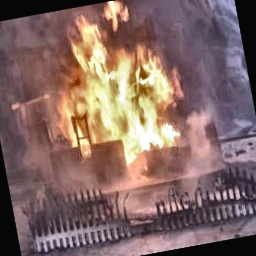fire: (29, 0, 202, 176)
